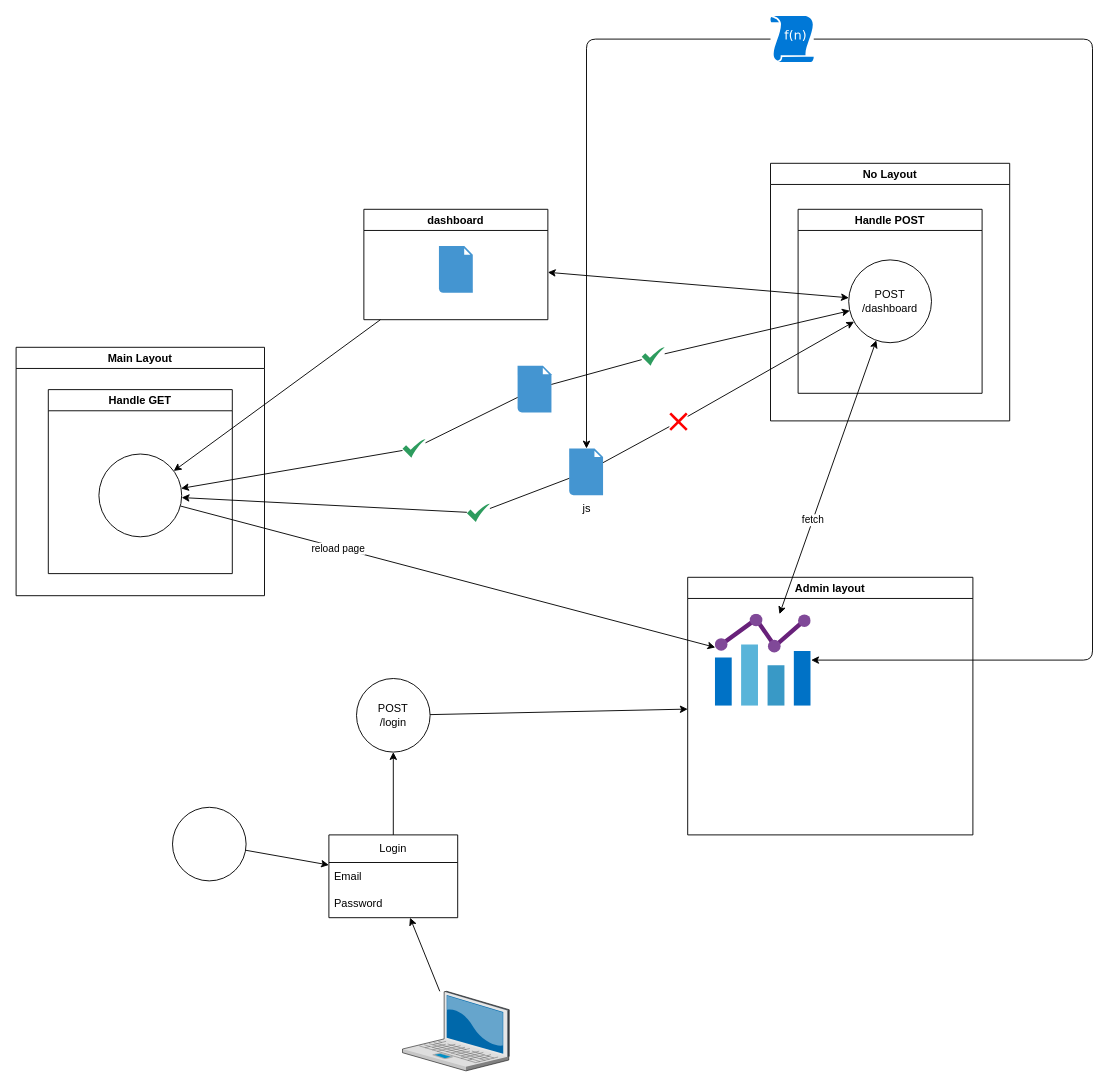
The diagram is 1116 pixels wide and 1087 high, and some of its shapes have lost their labels. The shapes that lost their labels are listed below. From the top down, each one's centre as x and y in pixels, then its label:
At (x=791, y=39): "Replace Js Script".
At (x=455, y=269): "html".
At (x=534, y=388): "css".
At (x=140, y=495): "GET /dashboard".
At (x=209, y=843): "GET /login".
